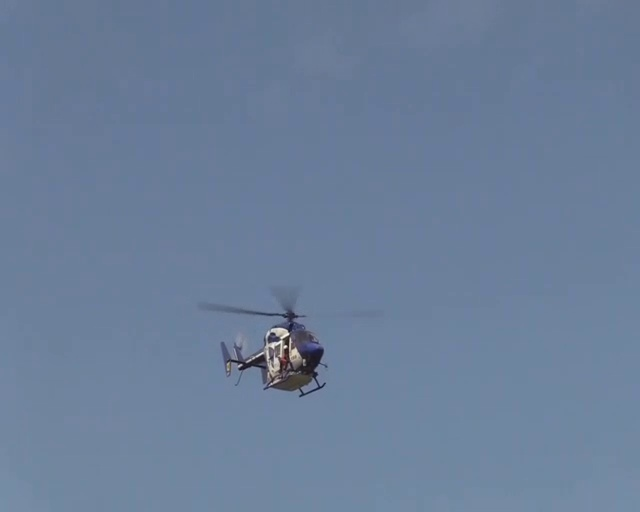HELICOPTER: (199, 283, 330, 396)
